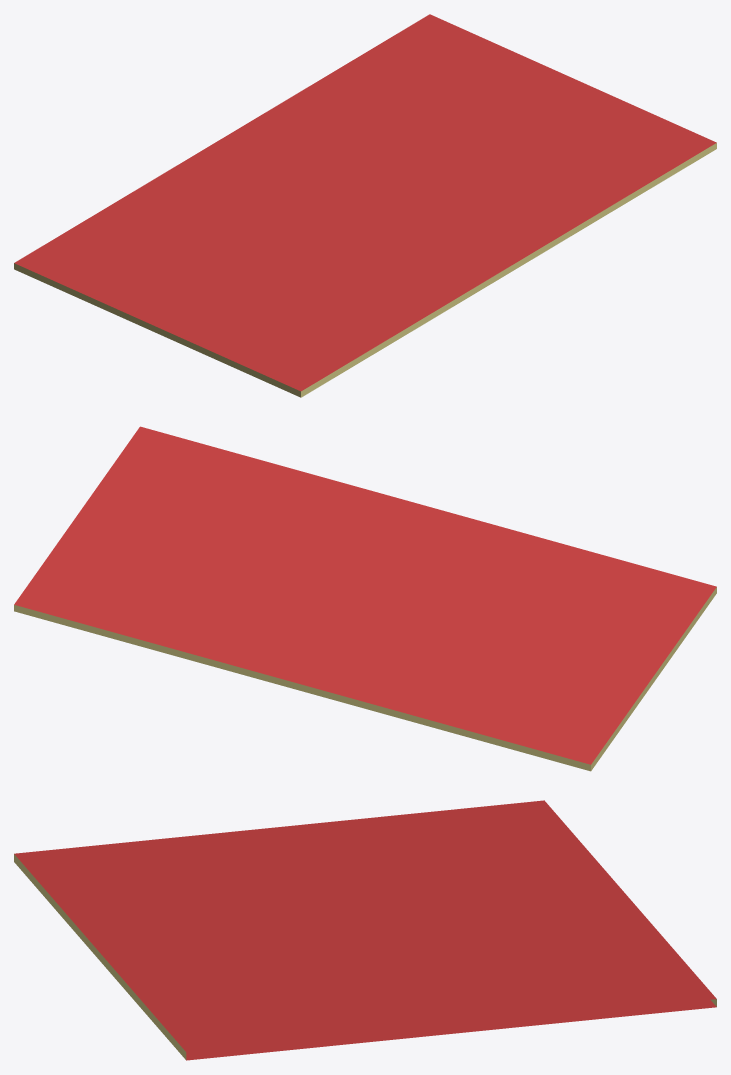
The picture shows the model from 3 angles, top to bottom: view 1: azimuth 30°, elevation 25°; view 2: azimuth 150°, elevation 25°; view 3: azimuth 270°, elevation 25°; orthographic projection. The views are drawn at different scales.
Bounding box in the file's own units: 9.4 × 7.75 × 1.42.
